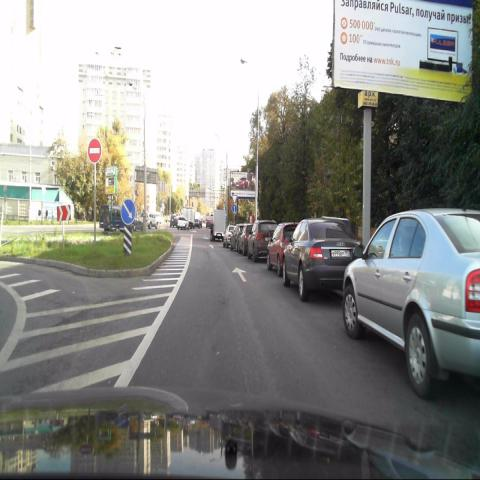3_1: (88, 139, 102, 163)
